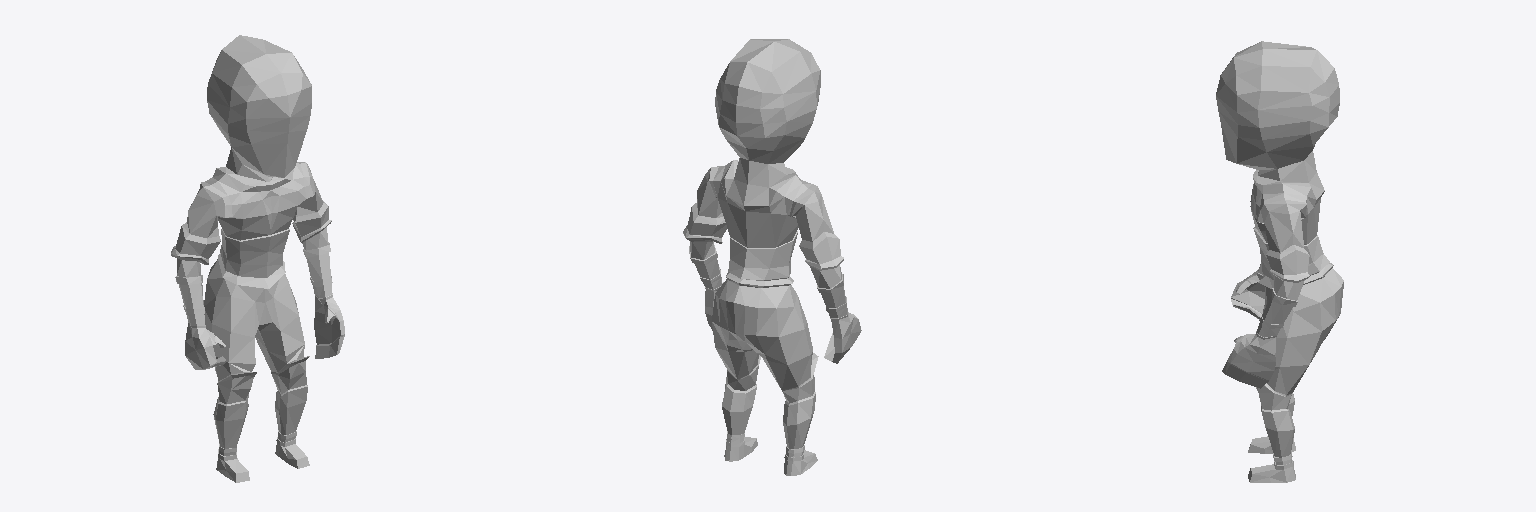
The model's file is Ranger_Cube.obj.
3 views of the same model, side by side, from view 1: azimuth 30°, elevation 25°; view 2: azimuth 150°, elevation 25°; view 3: azimuth 270°, elevation 25° (orthographic).
Parts seen in each view (by area): view 1: Ranger_Cube.003; view 2: Ranger_Cube.003; view 3: Ranger_Cube.003.
Part boxes in pixels (bbox=[...]): Ranger_Cube.003: bbox=[171, 35, 344, 482]; Ranger_Cube.003: bbox=[683, 39, 861, 475]; Ranger_Cube.003: bbox=[1216, 41, 1343, 482].
Bounding box in the file's own units: 1.1 × 2.81 × 0.7886.